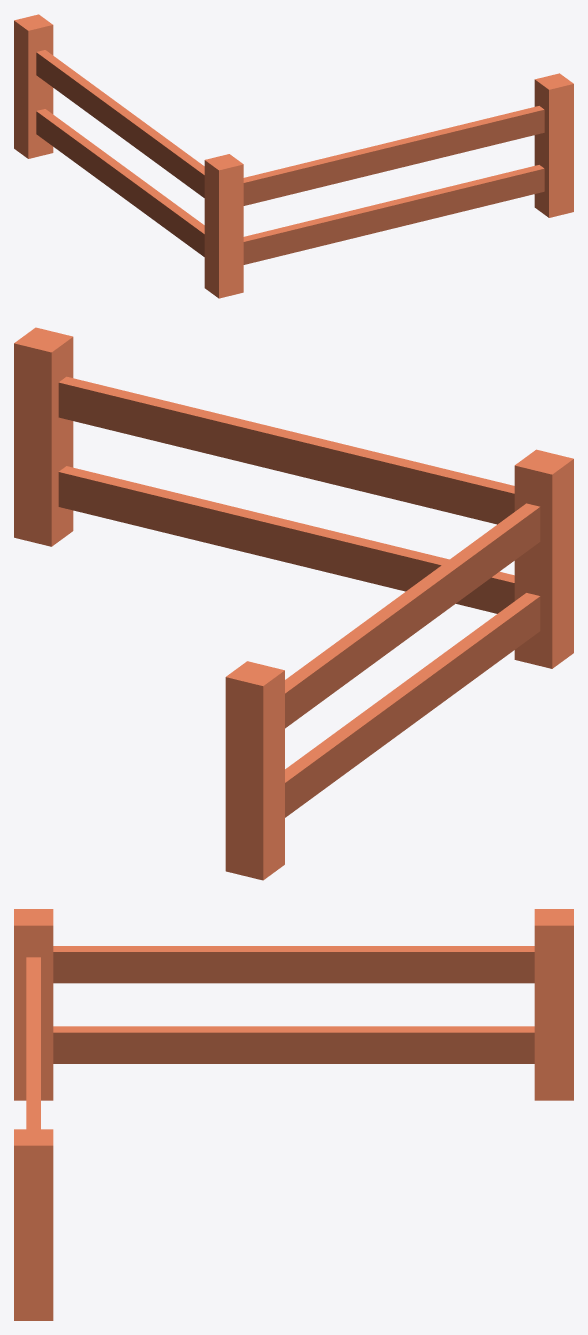
File: fence_corner.obj
3 renders of one model, top to bottom at view 1: azimuth 30°, elevation 25°; view 2: azimuth 150°, elevation 25°; view 3: azimuth 270°, elevation 25°, orthographic. The views are drawn at different scales.
Visible parts, largest first — view 1: fence_corner; view 2: fence_corner; view 3: fence_corner.
Part boxes in pixels (x1=…): fence_corner: x1=14, y1=14, x2=573, y2=298; fence_corner: x1=14, y1=327, x2=573, y2=880; fence_corner: x1=14, y1=909, x2=573, y2=1320.
Size of the model in its own units: 1 by 0.345 by 1.
